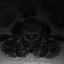CCS_normal: (30, 30, 32, 39)
LFS_normal: (34, 30, 37, 36)
LLS_normal: (32, 30, 34, 37)
RFS_normal: (26, 30, 28, 36)
RLS_normal: (28, 30, 30, 37)
